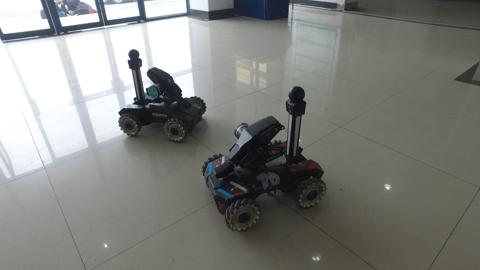chariot: (197, 85, 332, 234), (118, 46, 211, 151)
